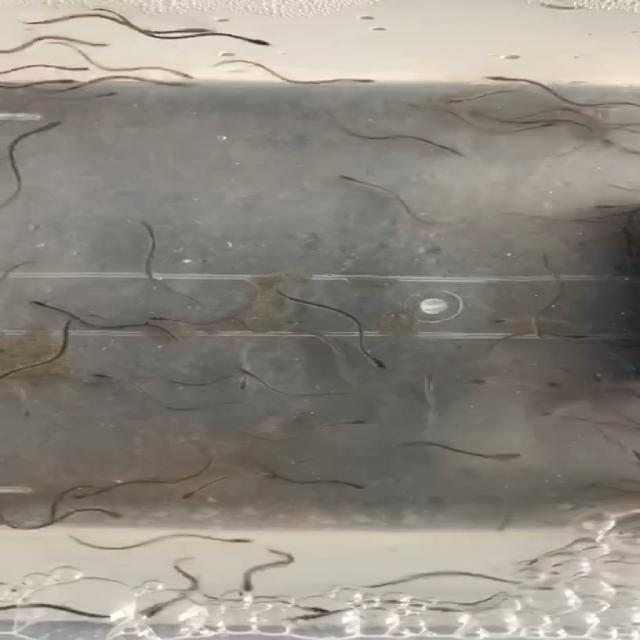active_glass_eel: (132, 594, 180, 622), (279, 605, 335, 627), (336, 68, 388, 90), (480, 445, 538, 464), (63, 483, 110, 506), (144, 70, 198, 90), (37, 72, 90, 91), (163, 22, 229, 37), (69, 368, 116, 389), (20, 294, 64, 315), (207, 532, 261, 549), (593, 196, 640, 215), (292, 598, 336, 618), (364, 342, 394, 371), (81, 507, 139, 522), (131, 213, 168, 236), (39, 59, 88, 76), (236, 31, 277, 51), (438, 92, 486, 109), (18, 395, 49, 421), (178, 484, 220, 503), (144, 311, 196, 326), (23, 117, 66, 135), (406, 371, 435, 397), (444, 340, 481, 360), (534, 244, 558, 274), (477, 72, 532, 85), (515, 117, 557, 134), (428, 144, 472, 160), (480, 312, 519, 330), (164, 65, 202, 83), (327, 172, 369, 188), (231, 370, 255, 398), (76, 39, 120, 54), (463, 371, 496, 390), (89, 87, 128, 103), (248, 465, 284, 482), (538, 375, 576, 391), (338, 415, 378, 430), (536, 408, 574, 423), (344, 477, 371, 498), (234, 580, 260, 600)
